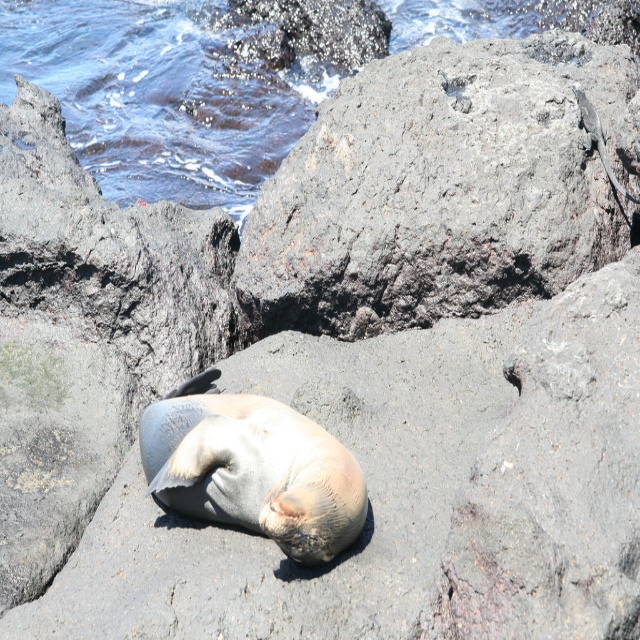Harbor seal: (158, 387, 365, 576)
